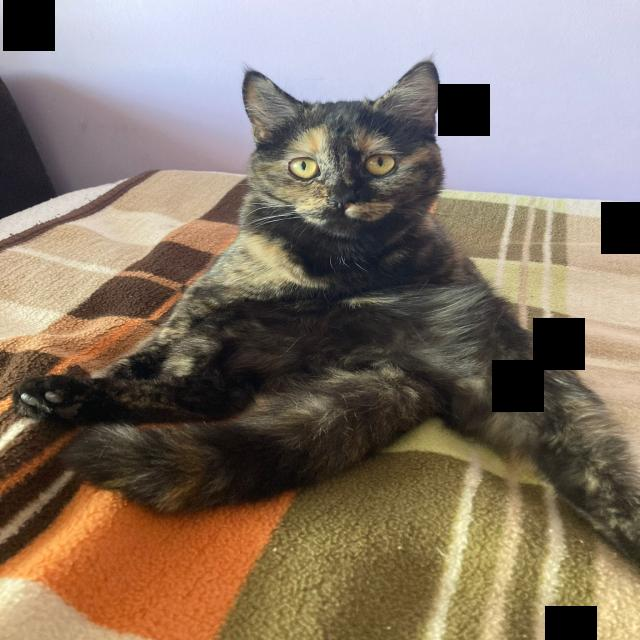authorized: (13, 56, 639, 572)
